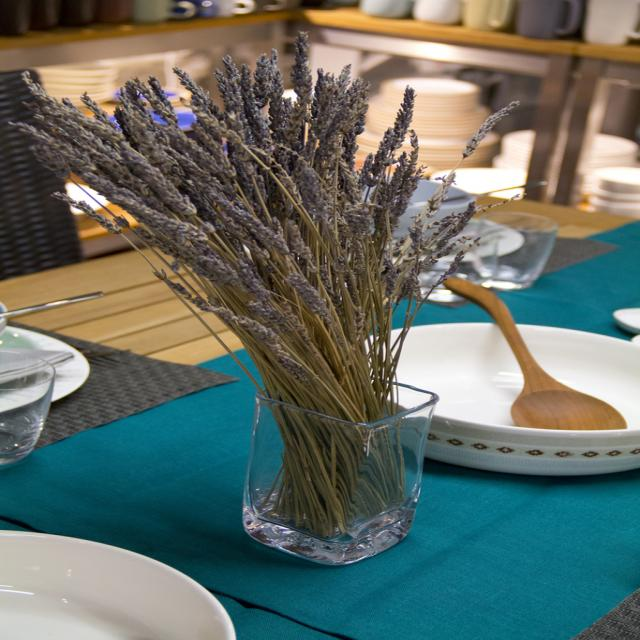non-organic waste: (324, 334, 640, 472)
